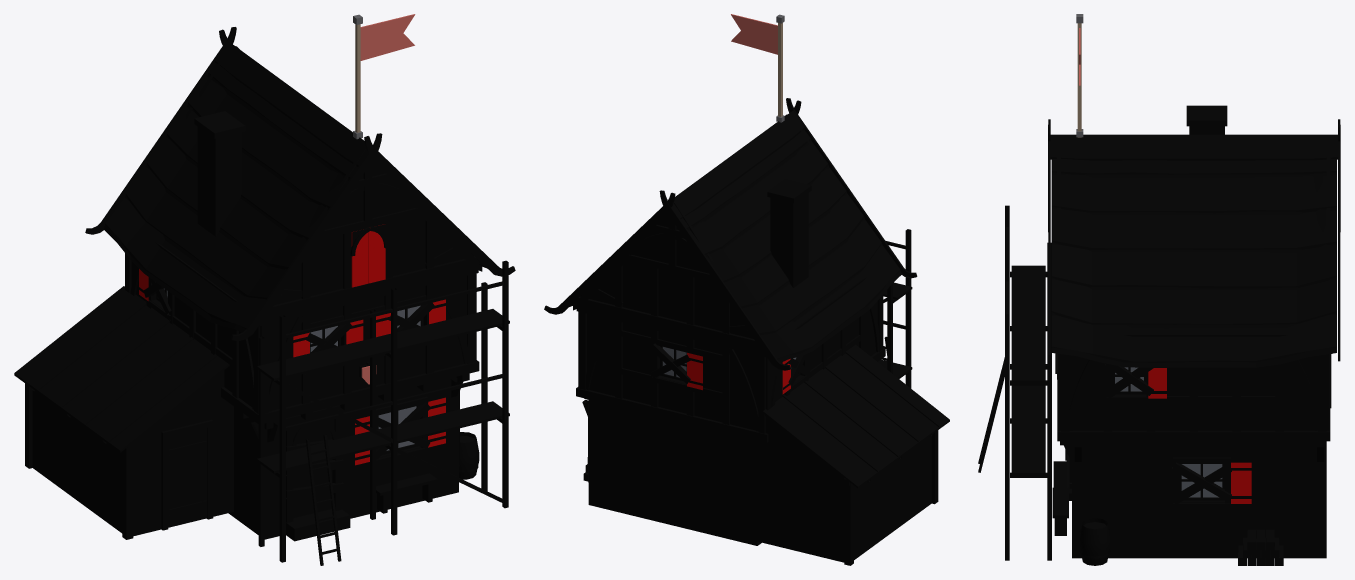
The model's file is wohnhaus_elb_s1_g3.glb.
The picture shows the model from 3 angles, left to right: view 1: azimuth 30°, elevation 25°; view 2: azimuth 150°, elevation 25°; view 3: azimuth 270°, elevation 25°; orthographic projection. The views are drawn at different scales.
Visible parts, largest first — view 1: Haus, Dach, Geruest, Leerstand, Fahne, Scheiben; view 2: Haus, Dach, Geruest, Fahne, Leerstand; view 3: Dach, Haus, Geruest, Leerstand, Scheiben, Fahne.
Boxes of the visible parts, <box> form: Haus: <box>14,46,479,541</box>; Dach: <box>85,27,515,341</box>; Geruest: <box>257,260,509,565</box>; Leerstand: <box>143,277,434,499</box>; Fahne: <box>353,14,415,139</box>; Scheiben: <box>164,288,420,450</box>; Haus: <box>575,114,949,565</box>; Dach: <box>544,98,917,370</box>; Geruest: <box>878,229,912,388</box>; Fahne: <box>731,14,784,122</box>; Leerstand: <box>650,343,810,385</box>; Dach: <box>1048,119,1340,367</box>; Haus: <box>1052,105,1331,565</box>; Geruest: <box>978,205,1051,560</box>; Leerstand: <box>1055,353,1331,504</box>; Scheiben: <box>1115,367,1222,497</box>; Fahne: <box>1076,14,1083,137</box>.
Bounding box in the file's own units: 8.12 × 10.74 × 7.12.
